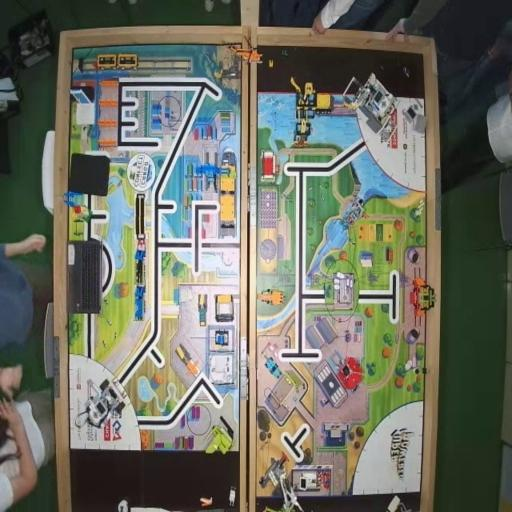lego_robot: (342, 72, 399, 144), (74, 376, 126, 431)
